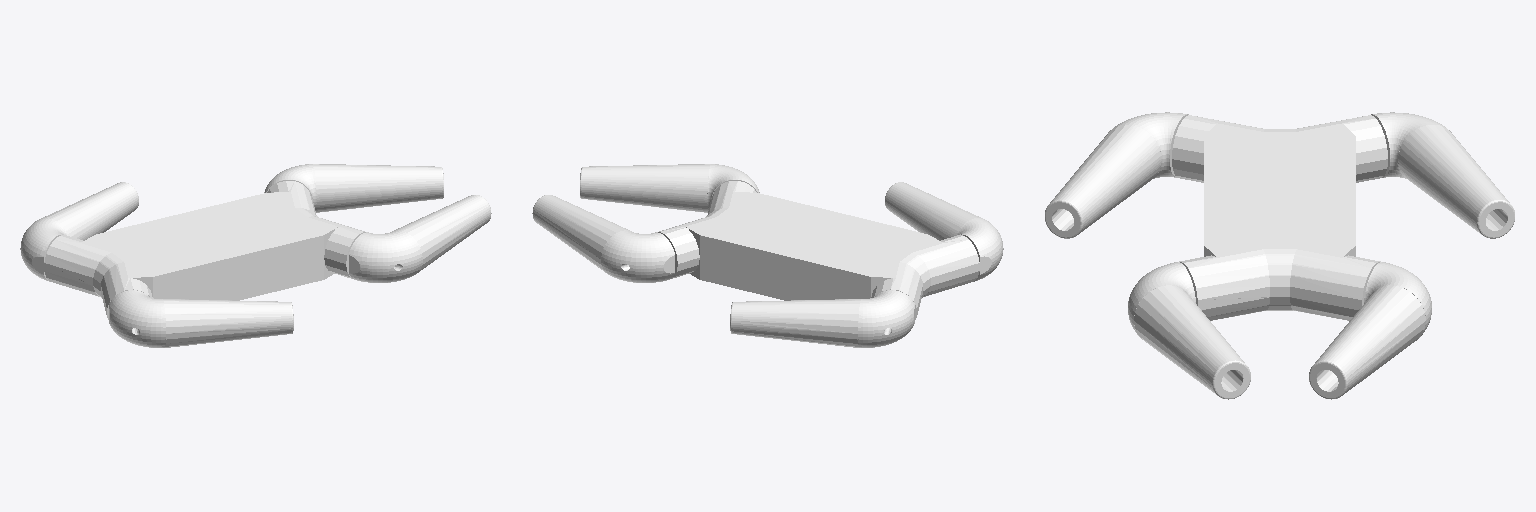
The robot description file, URDF, robot "24_degree":
<?xml version="1.0" encoding="utf-8"?>
<!-- This URDF was automatically created by SolidWorks to URDF Exporter! Originally created by [author] ([email redacted]) 
     Commit Version: 1.5.1-0-g916b5db  Build Version: 1.5.7152.31018
     For more information, please see http://wiki.ros.org/sw_urdf_exporter -->
<robot
  name="24_degree">
  <link
    name="base_link">
    <inertial>
      <origin
        xyz="-1.3878E-17 7.5657E-08 -1.7347E-18"
        rpy="0 0 0" />
      <mass
        value="2.803" />
      <inertia
        ixx="0.009514191"
        ixy="1.3764E-18"
        ixz="-9.6444E-09"
        iyy="0.044669501"
        iyz="-2.6968E-18"
        izz="0.05180624" />
    </inertial>
    <visual>
      <origin
        xyz="0 0 0"
        rpy="0 0 0" />
      <geometry>
        <mesh
          filename="package://24_degree/meshes/base_link.STL" />
      </geometry>
      <material
        name="">
        <color
          rgba="1 1 1 1" />
      </material>
    </visual>
    <collision>
      <origin
        xyz="0 0 0"
        rpy="0 0 0" />
      <geometry>
        <mesh
          filename="package://24_degree/meshes/base_link.STL" />
      </geometry>
    </collision>
  </link>
  <link
    name="left_fromt_link">
    <inertial>
      <origin
        xyz="-8.7349E-08 0.079628 -0.0044549"
        rpy="0 0 0" />
      <mass
        value="0.0954" />
      <inertia
        ixx="0.000393573"
        ixy="-3.3877E-11"
        ixz="1.0101E-09"
        iyy="0.000088886"
        iyz="-0.000108604"
        izz="0.000353925" />
    </inertial>
    <visual>
      <origin
        xyz="0 0 0"
        rpy="0 0 0" />
      <geometry>
        <mesh
          filename="package://24_degree/meshes/left_fromt_link.STL" />
      </geometry>
      <material
        name="">
        <color
          rgba="1 1 1 1" />
      </material>
    </visual>
    <collision>
      <origin
        xyz="0 0 0"
        rpy="0 0 0" />
      <geometry>
        <mesh
          filename="package://24_degree/meshes/left_fromt_link.STL" />
      </geometry>
    </collision>
  </link>
  <joint
    name="left_front_leg"
    type="continuous">
    <origin
      xyz="0.17189 0.094095 0"
      rpy="1.5708 1.5708 0" />
    <parent
      link="base_link" />
    <child
      link="left_fromt_link" />
    <axis
      xyz="0 0.40674 -0.91355" />
    <limit
      effort="5"
      velocity="487" />
  </joint>
  <link
    name="right_front_link">
    <inertial>
      <origin
        xyz="8.7349E-08 0.079628 0.0044549"
        rpy="0 0 0" />
      <mass
        value="0.0954" />
      <inertia
        ixx="0.000393573"
        ixy="3.3877E-11"
        ixz="1.0101E-09"
        iyy="0.000088886"
        iyz="0.000108604"
        izz="0.000353925" />
    </inertial>
    <visual>
      <origin
        xyz="0 0 0"
        rpy="0 0 0" />
      <geometry>
        <mesh
          filename="package://24_degree/meshes/right_front_link.STL" />
      </geometry>
      <material
        name="">
        <color
          rgba="1 1 1 1" />
      </material>
    </visual>
    <collision>
      <origin
        xyz="0 0 0"
        rpy="0 0 0" />
      <geometry>
        <mesh
          filename="package://24_degree/meshes/right_front_link.STL" />
      </geometry>
    </collision>
  </link>
  <joint
    name="right_front_leg"
    type="continuous">
    <origin
      xyz="0.17189 -0.094095 0"
      rpy="1.5708 1.5708 0" />
    <parent
      link="base_link" />
    <child
      link="right_front_link" />
    <axis
      xyz="0 0.40674 0.91355" />
    <limit
      effort="5"
      velocity="487" />
  </joint>
  <link
    name="right_back_link">
    <inertial>
      <origin
        xyz="7.3722E-08 0.070933 0.036457"
        rpy="0 0 0" />
      <mass
        value="0.0954" />
      <inertia
        ixx="0.000393573"
        ixy="-3.2656E-10"
        ixz="1.7295E-10"
        iyy="0.000052204"
        iyz="-0.000025811"
        izz="0.000390786" />
    </inertial>
    <visual>
      <origin
        xyz="0 0 0"
        rpy="0 0 0" />
      <geometry>
        <mesh
          filename="package://24_degree/meshes/right_back_link.STL" />
      </geometry>
      <material
        name="">
        <color
          rgba="1 1 1 1" />
      </material>
    </visual>
    <collision>
      <origin
        xyz="0 0 0"
        rpy="0 0 0" />
      <geometry>
        <mesh
          filename="package://24_degree/meshes/right_back_link.STL" />
      </geometry>
    </collision>
  </link>
  <joint
    name="right_back_leg"
    type="continuous">
    <origin
      xyz="-0.17189 -0.094095 0"
      rpy="1.9897 1.5708 0" />
    <parent
      link="base_link" />
    <child
      link="right_back_link" />
    <axis
      xyz="0 0 1" />
    <limit
      effort="5"
      velocity="487" />
  </joint>
  <link
    name="left_back_link">
    <inertial>
      <origin
        xyz="-7.3722E-08 0.049972 -0.062156"
        rpy="0 0 0" />
      <mass
        value="0.0954" />
      <inertia
        ixx="0.000393573"
        ixy="3.6867E-10"
        ixz="2.5177E-11"
        iyy="0.000127249"
        iyz="0.000143146"
        izz="0.000315562" />
    </inertial>
    <visual>
      <origin
        xyz="0 0 0"
        rpy="0 0 0" />
      <geometry>
        <mesh
          filename="package://24_degree/meshes/left_back_link.STL" />
      </geometry>
      <material
        name="">
        <color
          rgba="1 1 1 1" />
      </material>
    </visual>
    <collision>
      <origin
        xyz="0 0 0"
        rpy="0 0 0" />
      <geometry>
        <mesh
          filename="package://24_degree/meshes/left_back_link.STL" />
      </geometry>
    </collision>
  </link>
  <joint
    name="left_back_leg"
    type="continuous">
    <origin
      xyz="-0.17189 0.094095 0"
      rpy="1.5708 1.5708 0" />
    <parent
      link="base_link" />
    <child
      link="left_back_link" />
    <axis
      xyz="0 -0.40674 -0.91355" />
    <limit
      effort="5"
      velocity="487" />
  </joint>
</robot>

--- What the picture shows (computed from the rendered views, not written in the file) ---
Views: 3 orthographic renders of the robot side by side, from view 1: azimuth 30°, elevation 25°; view 2: azimuth 150°, elevation 25°; view 3: azimuth 270°, elevation 25°.
Model 24_degree with 5 links and 4 joints (4 continuous), rooted at base_link, posed every joint at zero.
Links seen in each view (by area): view 1: base_link, right_back_link, right_front_link, left_fromt_link, left_back_link; view 2: base_link, left_back_link, left_fromt_link, right_front_link, right_back_link; view 3: base_link, left_back_link, right_back_link, right_front_link, left_fromt_link.
Boxes of the visible links, x1,y1,x2,y2 form: base_link: [44, 181, 365, 319]; right_back_link: [109, 290, 293, 347]; right_front_link: [349, 195, 491, 282]; left_fromt_link: [264, 164, 443, 212]; left_back_link: [20, 182, 138, 281]; base_link: [658, 181, 979, 319]; left_back_link: [730, 290, 914, 347]; left_fromt_link: [532, 195, 674, 282]; right_front_link: [580, 164, 759, 212]; right_back_link: [885, 182, 1003, 281]; base_link: [1172, 115, 1387, 320]; left_back_link: [1371, 112, 1514, 238]; right_back_link: [1045, 112, 1188, 238]; right_front_link: [1128, 262, 1250, 399]; left_fromt_link: [1309, 262, 1431, 399].
Size in the robot's own frame: 0.5924 by 0.4662 by 0.064 metres.
5 mesh visuals loaded from 5 distinct referenced files (5 binary STL).